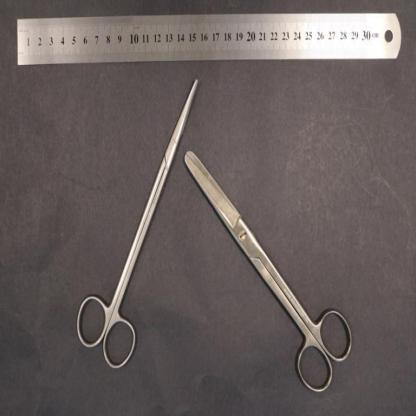7 Metzenbaum Scissors: (74, 79, 198, 373)
Dressing Scissors: (184, 148, 354, 396)
